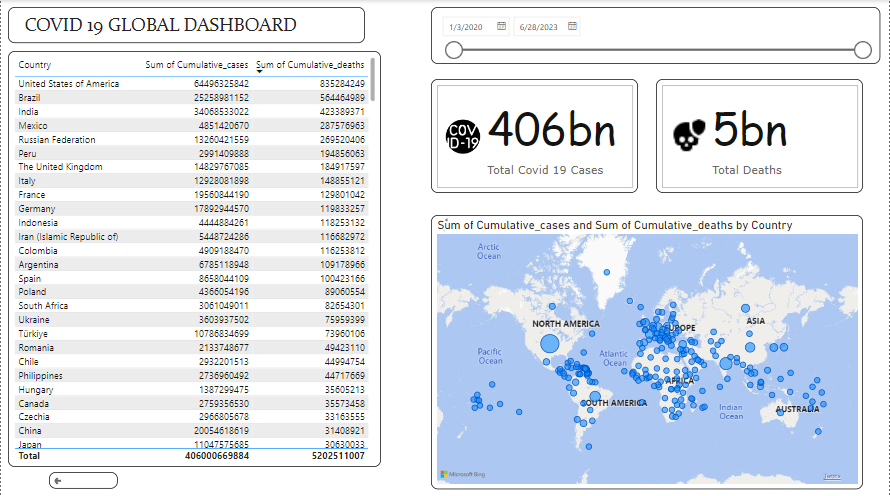

Layout of this report page (visuals, bound fields, positions):
{"tool":"powerbi","page":{"name":"cases","canvas":[1280,720],"ordinal":1},"visuals":[{"type":"textbox","box":[10.1,10.1,514.1,51.8],"z":0},{"type":"tableEx","fields":{"Values":["WHO-COVID-19-global-data.Country","Sum(WHO-COVID-19-global-data.Cumulative_cases)","Sum(WHO-COVID-19-global-data.Cumulative_deaths)"]},"box":[10.1,73.4,537.1,599],"z":1000},{"type":"slicer","fields":{"Values":["WHO-COVID-19-global-data.Date_reported"]},"box":[619.2,10.1,646.6,82.1],"z":2000},{"type":"cardVisual","fields":{"Data":["Sum(WHO-COVID-19-global-data.Cumulative_cases)"]},"box":[619.2,113.8,298.1,164.2],"z":3000},{"type":"cardVisual","fields":{"Data":["Sum(WHO-COVID-19-global-data.Cumulative_deaths)"]},"box":[943.2,113.8,298.1,164.2],"z":4000},{"type":"map","fields":{"Category":["WHO-COVID-19-global-data.Country"],"Size":["Sum(WHO-COVID-19-global-data.Cumulative_cases)"]},"box":[619.2,309.6,622.1,394.6],"z":5000},{"type":"actionButton","box":[69.1,679.7,99.4,24.5],"z":6000}]}

Visuals, with their boxes in screenshot pixels (x1, y1, x2, y2), scaled from the page's 1280x720 canvas onto the 890x496 screenshot:
textbox: rect(7, 7, 364, 43)
tableEx - WHO-COVID-19-global-data.Country x Sum(WHO-COVID-19-global-data.Cumulative_cases): rect(7, 51, 380, 463)
slicer - WHO-COVID-19-global-data.Date_reported: rect(431, 7, 880, 64)
cardVisual - Sum(WHO-COVID-19-global-data.Cumulative_cases): rect(431, 78, 638, 192)
cardVisual - Sum(WHO-COVID-19-global-data.Cumulative_deaths): rect(656, 78, 863, 192)
map - WHO-COVID-19-global-data.Country x Sum(WHO-COVID-19-global-data.Cumulative_cases): rect(431, 213, 863, 485)
actionButton: rect(48, 468, 117, 485)
